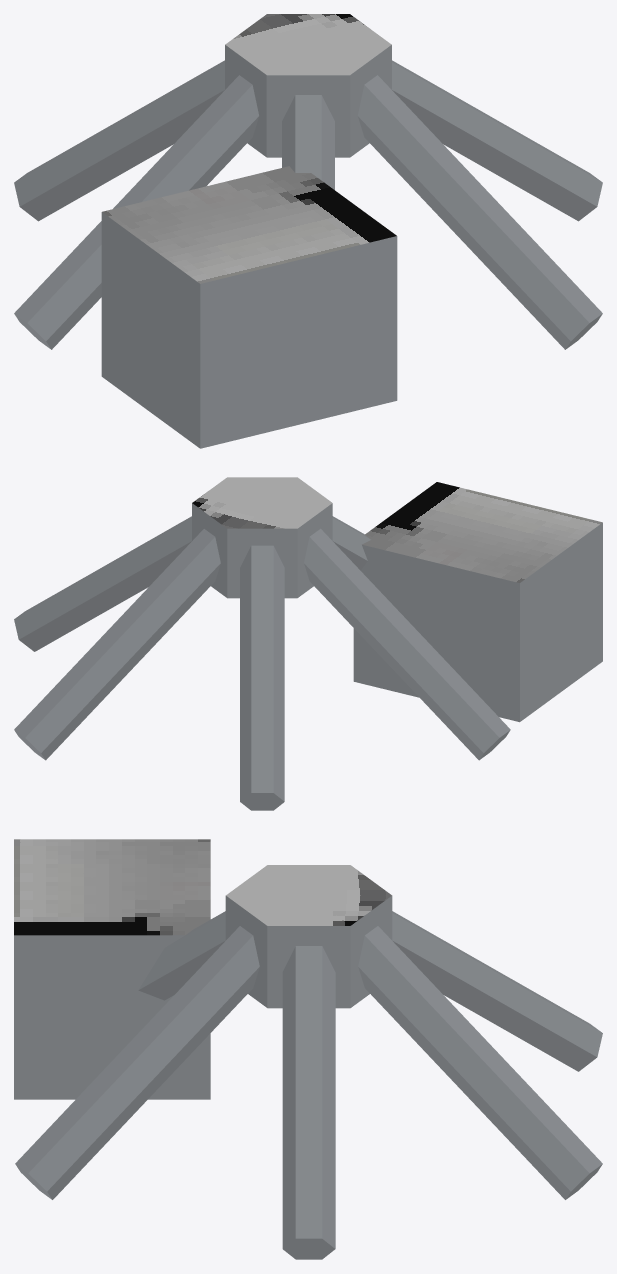
The model's file is Building_Turret_Mortar.glb.
3 views of the same model, one above another, from view 1: azimuth 30°, elevation 25°; view 2: azimuth 150°, elevation 25°; view 3: azimuth 270°, elevation 25° (orthographic). The views are drawn at different scales.
Parts seen in each view (by area): view 1: Turret_Mortar; view 2: Turret_Mortar; view 3: Turret_Mortar.
Part boxes in pixels (left/top/right/bottom): Turret_Mortar: left=14, top=14, right=602, bottom=448; Turret_Mortar: left=14, top=477, right=602, bottom=810; Turret_Mortar: left=14, top=839, right=602, bottom=1259.
Bounding box in the file's own units: 0.8772 × 0.3439 × 0.7786.
Materials: 1 (1 with a texture image).
